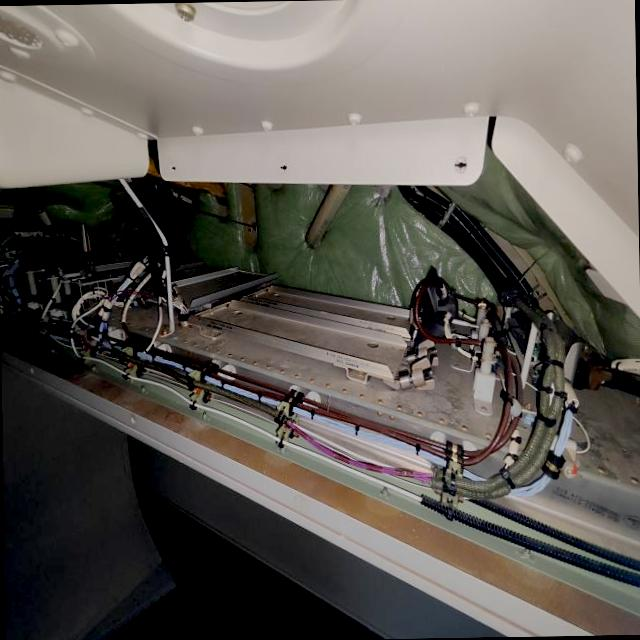Missing Fastener: (447, 152, 472, 178), (276, 154, 292, 177), (166, 158, 181, 178), (128, 414, 135, 424)
